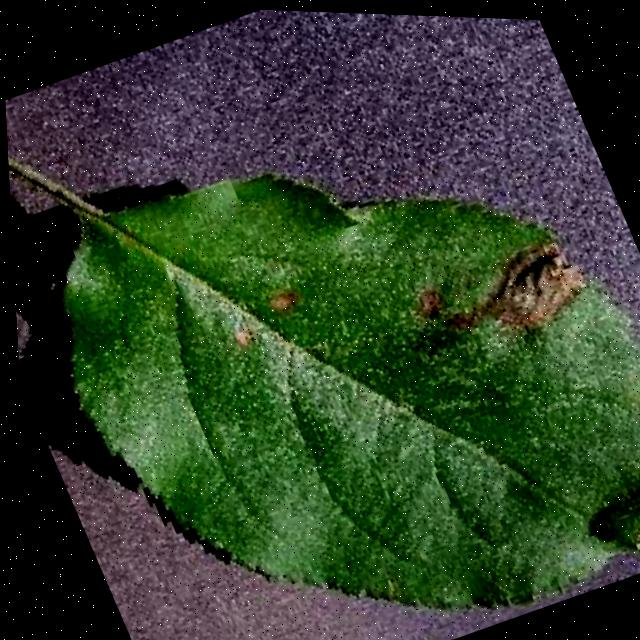black_rot: (451, 218, 616, 376), (245, 264, 324, 343)
